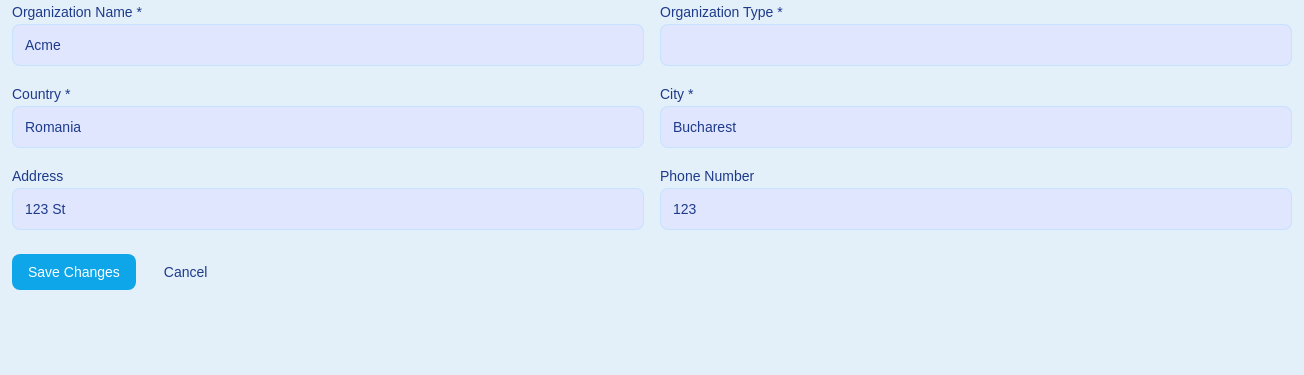
Test: OrganizationInlineEditForm › shows validation error when type is empty
This screenshot has width=1304, height=375.
Click the button "Save Changes": (74, 272) [12,254,136,290]
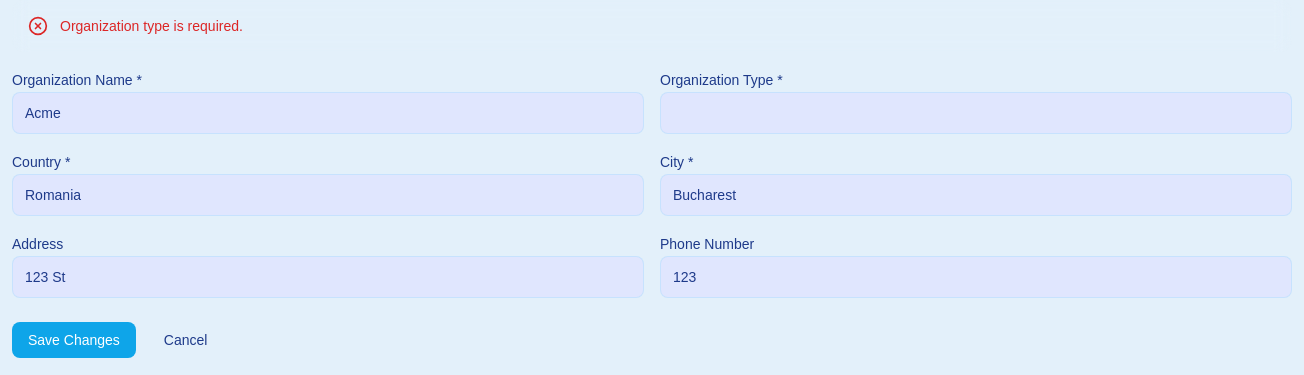
Expected: the text "Organization type is required." is shown, [60,16,243,36]
